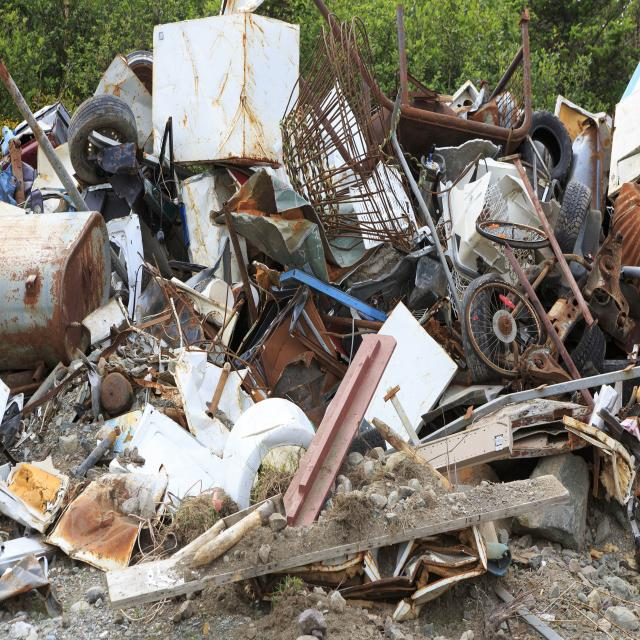metal: (169, 48, 438, 393)
